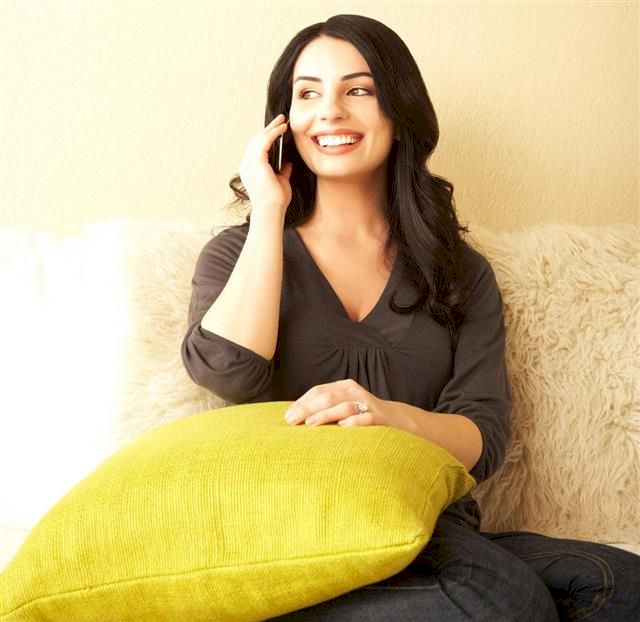phone: (262, 108, 299, 177)
talk: (235, 68, 388, 205)
